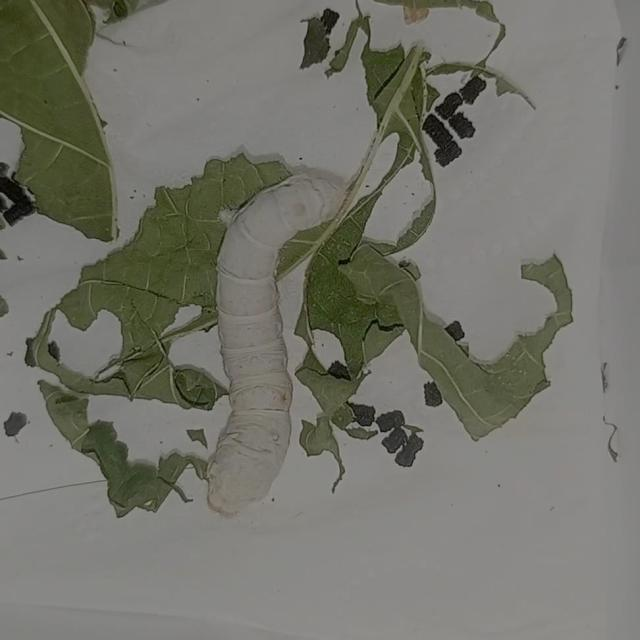Healthy: (149, 145, 388, 529)
